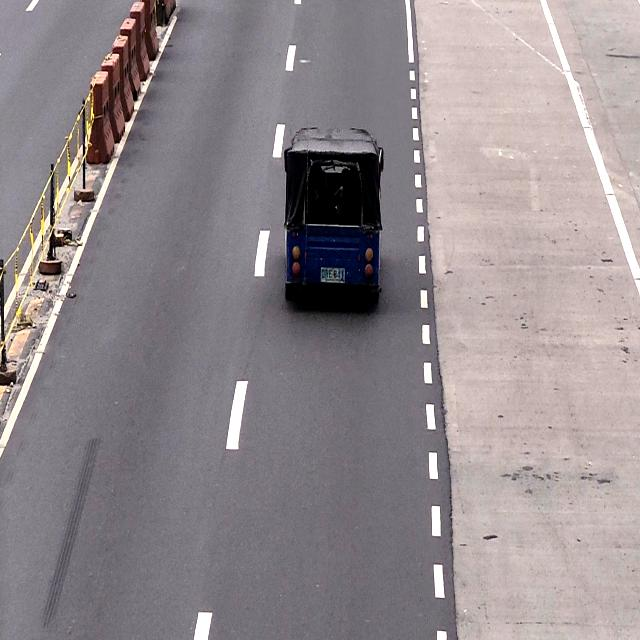Jeep: (283, 126, 384, 305)
License-Plate: (320, 267, 345, 285)
